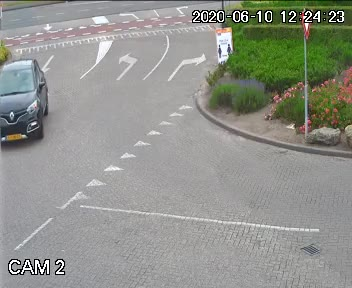car: (0, 57, 52, 143)
